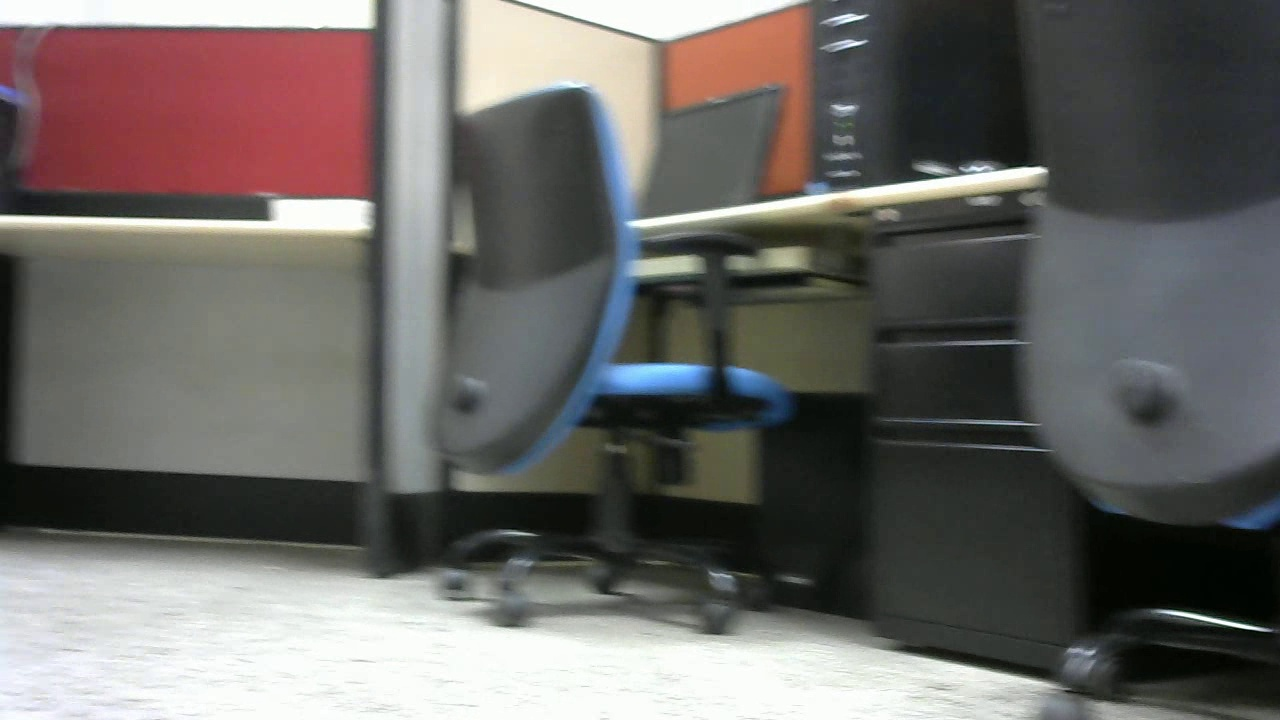chair: (425, 84, 793, 634)
